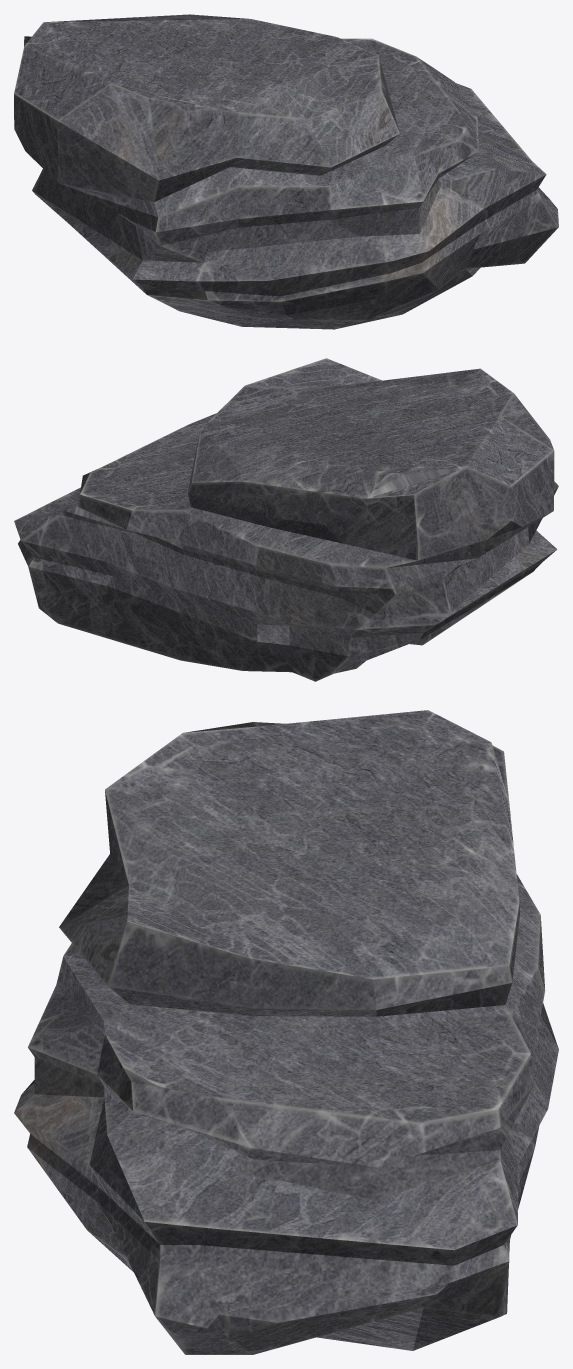
File: TaRock001.fbx
3 views of the same model, one above another, from view 1: azimuth 30°, elevation 25°; view 2: azimuth 150°, elevation 25°; view 3: azimuth 270°, elevation 25° (orthographic). The views are drawn at different scales.
Parts seen in each view (by area): view 1: pCube1; view 2: pCube1; view 3: pCube1.
Part boxes in pixels (x1,y1,x2,y2): pCube1: (14, 14, 558, 329); pCube1: (14, 358, 558, 681); pCube1: (14, 710, 558, 1354).
Size of the model in its own units: 2.13 by 1.08 by 1.47.
